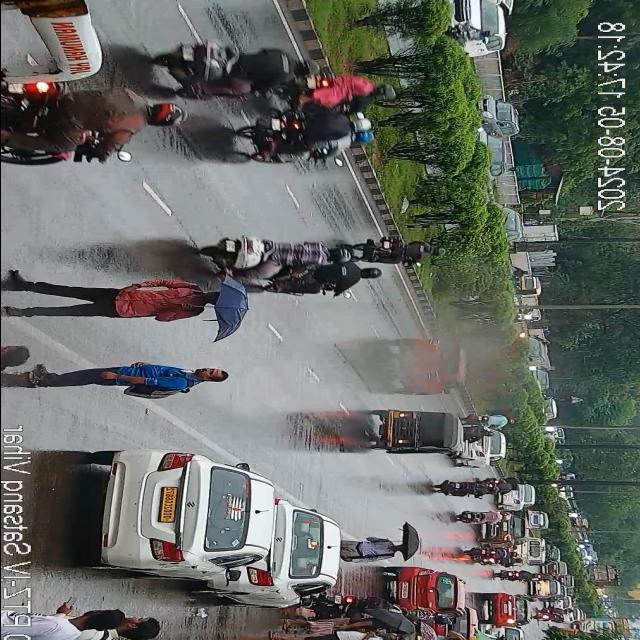2-wheelers: (1, 87, 172, 167), (151, 40, 313, 99), (237, 100, 371, 167), (203, 237, 307, 280), (275, 74, 394, 102), (368, 232, 434, 271), (434, 474, 486, 498), (465, 542, 515, 564), (451, 508, 501, 526), (481, 472, 517, 497), (452, 24, 494, 41), (496, 566, 536, 582), (508, 266, 530, 275), (516, 314, 540, 322), (532, 614, 562, 620), (538, 608, 566, 614), (535, 574, 559, 580), (543, 556, 556, 562), (544, 544, 554, 550), (568, 608, 576, 612)
auto: (368, 407, 461, 459), (516, 276, 542, 296)
bus: (0, 0, 125, 92)
car: (92, 444, 274, 594), (234, 504, 338, 606), (388, 336, 470, 394), (453, 0, 513, 54), (396, 566, 460, 616), (460, 424, 504, 470), (473, 93, 523, 132), (473, 126, 509, 178), (493, 195, 523, 245), (485, 590, 527, 625), (438, 607, 478, 637), (497, 510, 525, 545), (514, 538, 544, 570), (518, 332, 544, 362), (511, 479, 533, 512), (532, 574, 560, 596), (524, 506, 545, 532), (486, 624, 524, 638), (538, 399, 558, 420), (529, 367, 549, 387), (546, 563, 570, 575), (562, 613, 580, 624), (548, 600, 572, 608), (546, 594, 568, 602), (559, 576, 573, 588)
pedestrian: (84, 280, 220, 320), (87, 360, 231, 396), (66, 607, 157, 640), (24, 605, 99, 640), (284, 614, 398, 633), (343, 532, 408, 564), (0, 335, 29, 387), (278, 631, 402, 640), (440, 636, 462, 640)
